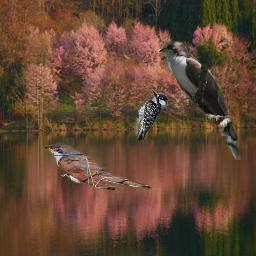Cuckoo: (158, 41, 248, 160), (41, 141, 154, 196)
Woodpecker: (127, 88, 168, 140)
